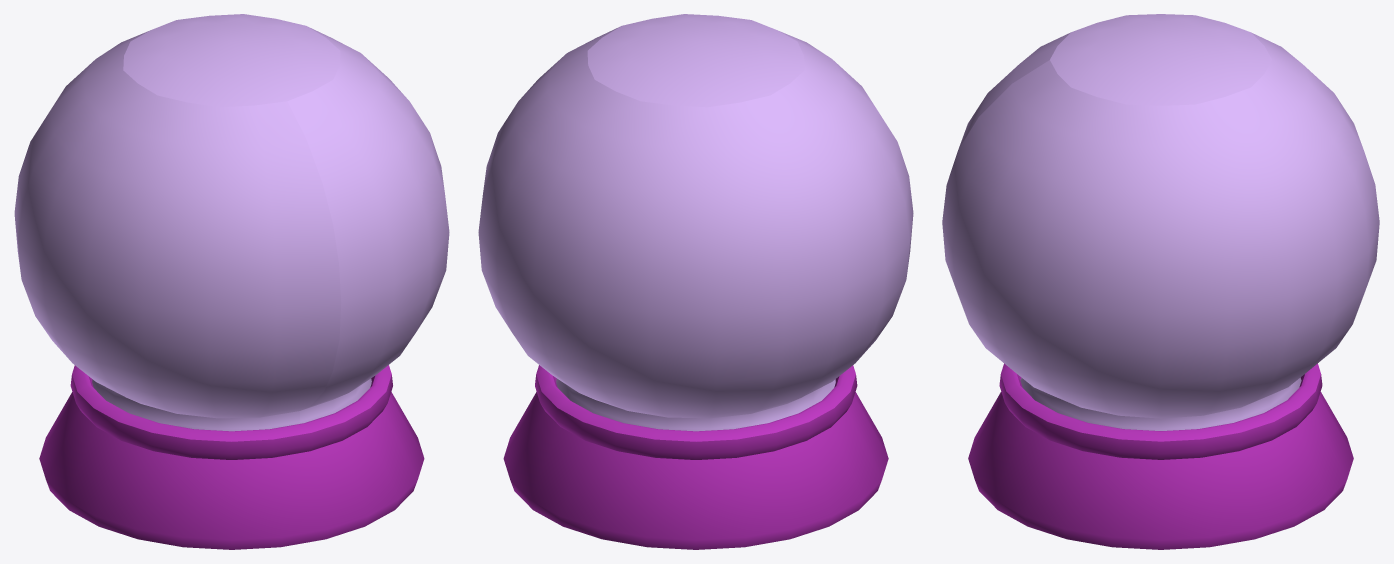
The picture shows the model from 3 angles, left to right: view 1: azimuth 30°, elevation 25°; view 2: azimuth 150°, elevation 25°; view 3: azimuth 270°, elevation 25°; orthographic projection.
Parts seen in each view (by area): view 1: split_parent_0, Object_8; view 2: split_parent_0, Object_8; view 3: split_parent_0, Object_8.
Part boxes in pixels (x1,y1,x2,y2): split_parent_0: (14, 14, 449, 431); Object_8: (39, 365, 424, 549); split_parent_0: (478, 14, 913, 431); Object_8: (503, 365, 888, 549); split_parent_0: (942, 14, 1379, 430); Object_8: (968, 363, 1353, 549).
Bounding box in the file's own units: 0.9268 × 1 × 0.9257.
